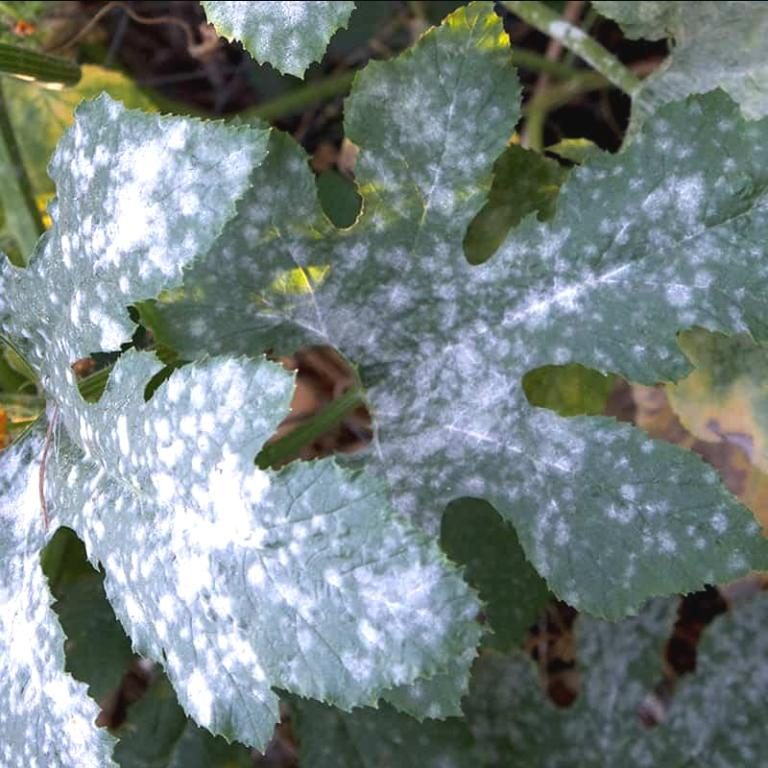powdery-mildew: (142, 396, 252, 636), (288, 510, 424, 678), (80, 118, 198, 284), (393, 294, 513, 454)
